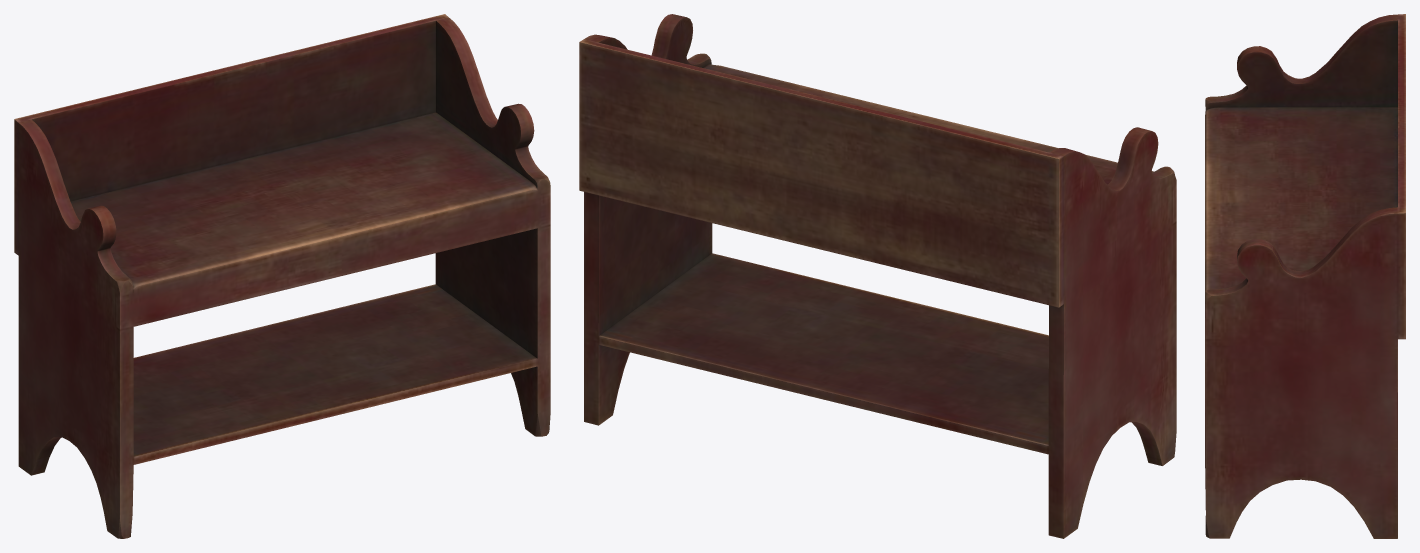
Rendered from painted_wooden_bench_512.gltf.
The picture shows the model from 3 angles, left to right: view 1: azimuth 30°, elevation 25°; view 2: azimuth 150°, elevation 25°; view 3: azimuth 270°, elevation 25°; orthographic projection. The views are drawn at different scales.
Visible parts, largest first — view 1: painted_wooden_bench; view 2: painted_wooden_bench; view 3: painted_wooden_bench.
Part boxes in pixels (left/top/right/bottom): painted_wooden_bench: left=14, top=14, right=550, bottom=538; painted_wooden_bench: left=579, top=14, right=1176, bottom=538; painted_wooden_bench: left=1205, top=14, right=1405, bottom=538.
Bounding box in the file's own units: 1.16 × 0.8893 × 0.4965.
Materials: 1 (1 with a texture image).
